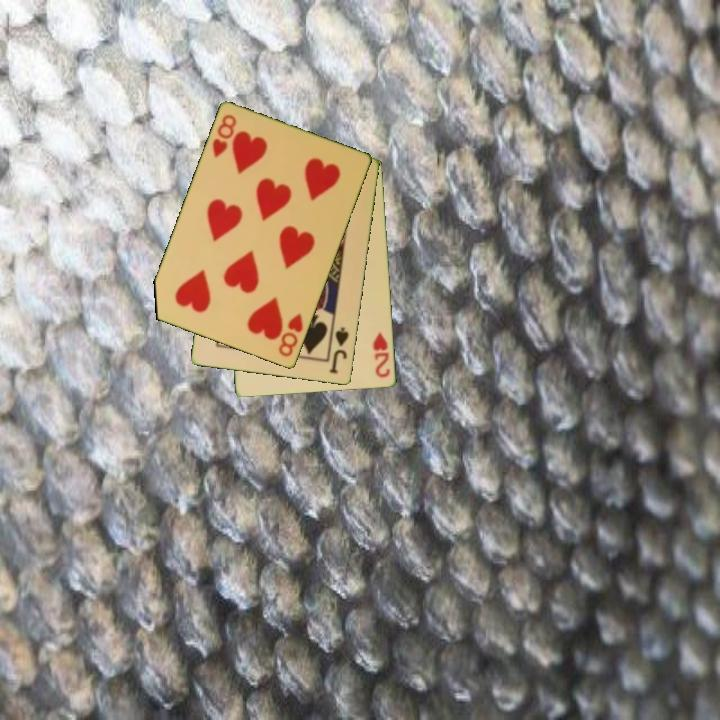2h: (370, 329, 393, 381)
8h: (275, 309, 306, 360), (209, 111, 240, 161)
Js: (326, 324, 352, 376)
